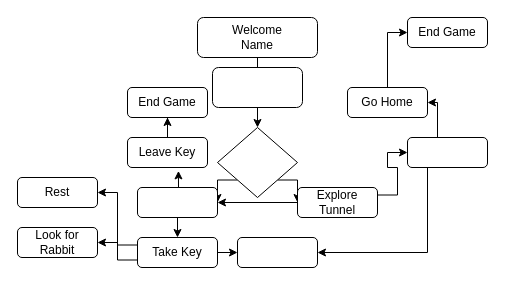
Some shapes in this 505 by 286 pixel diagram are drawn without their labels. The box of each missing label's shape, as (x1, y1, x2, y2) in pixels:
Call For Help: (406, 136, 488, 168)
Drink Me: (136, 186, 218, 218)
Explore Garden: (236, 236, 318, 268)
Play: (216, 126, 298, 198)
Start Game: (212, 66, 302, 108)
